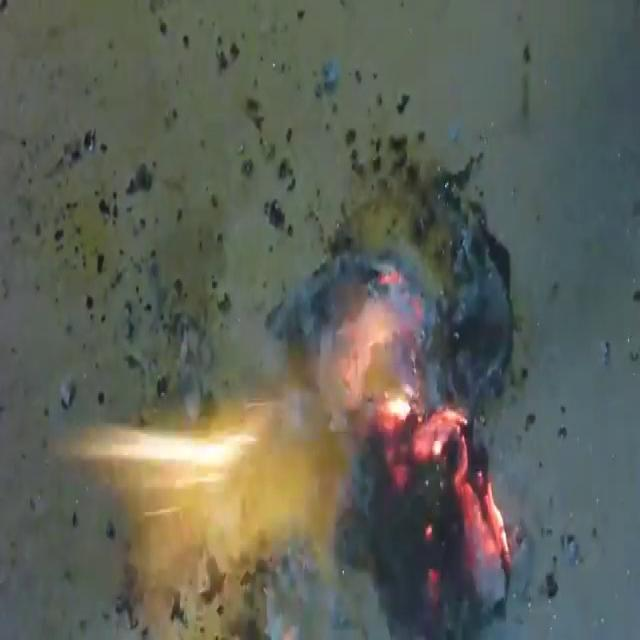Fire: (58, 253, 518, 636)
